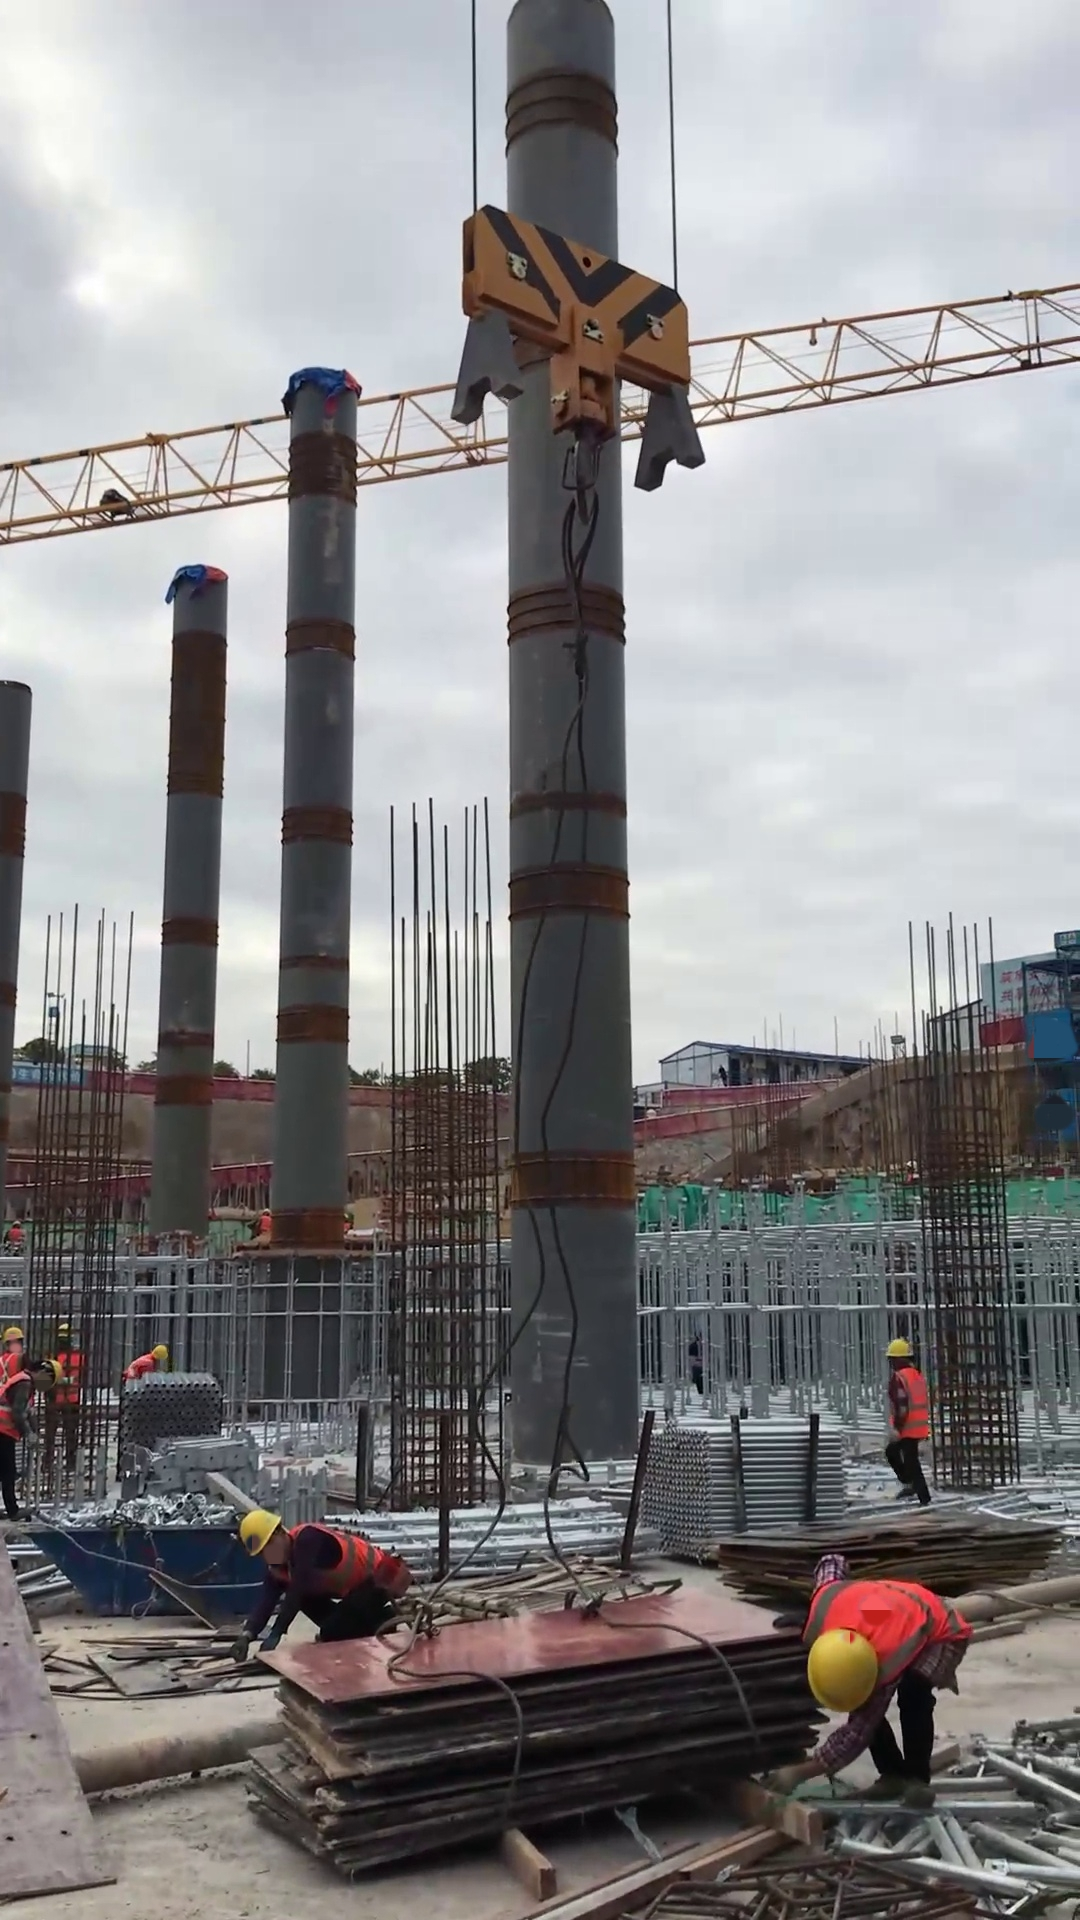board: (252, 1605, 814, 1868), (724, 1509, 1063, 1601)
helmet: (803, 1626, 881, 1714), (236, 1507, 284, 1558), (882, 1335, 914, 1361), (45, 1355, 63, 1392), (55, 1320, 77, 1341), (1, 1326, 26, 1344), (148, 1342, 169, 1362), (11, 1219, 23, 1228), (261, 1207, 272, 1215)
hook: (446, 194, 709, 500)
hopper: (20, 1525, 275, 1620)
person: (757, 1549, 975, 1804), (226, 1507, 413, 1664), (1, 1355, 66, 1523), (882, 1333, 936, 1511), (43, 1318, 88, 1477), (1, 1324, 35, 1384), (120, 1342, 168, 1382), (1, 1219, 26, 1249), (255, 1204, 273, 1238)
scaffold: (636, 1415, 851, 1559), (336, 1499, 657, 1579), (113, 1369, 227, 1446)
slogan: (995, 930, 1080, 1005), (9, 1060, 83, 1094)
vest: (804, 1577, 971, 1680), (284, 1519, 406, 1605), (887, 1364, 930, 1441), (1, 1371, 35, 1441), (52, 1348, 86, 1406), (123, 1352, 156, 1380), (1, 1350, 21, 1385), (6, 1227, 24, 1244), (258, 1214, 272, 1233)
